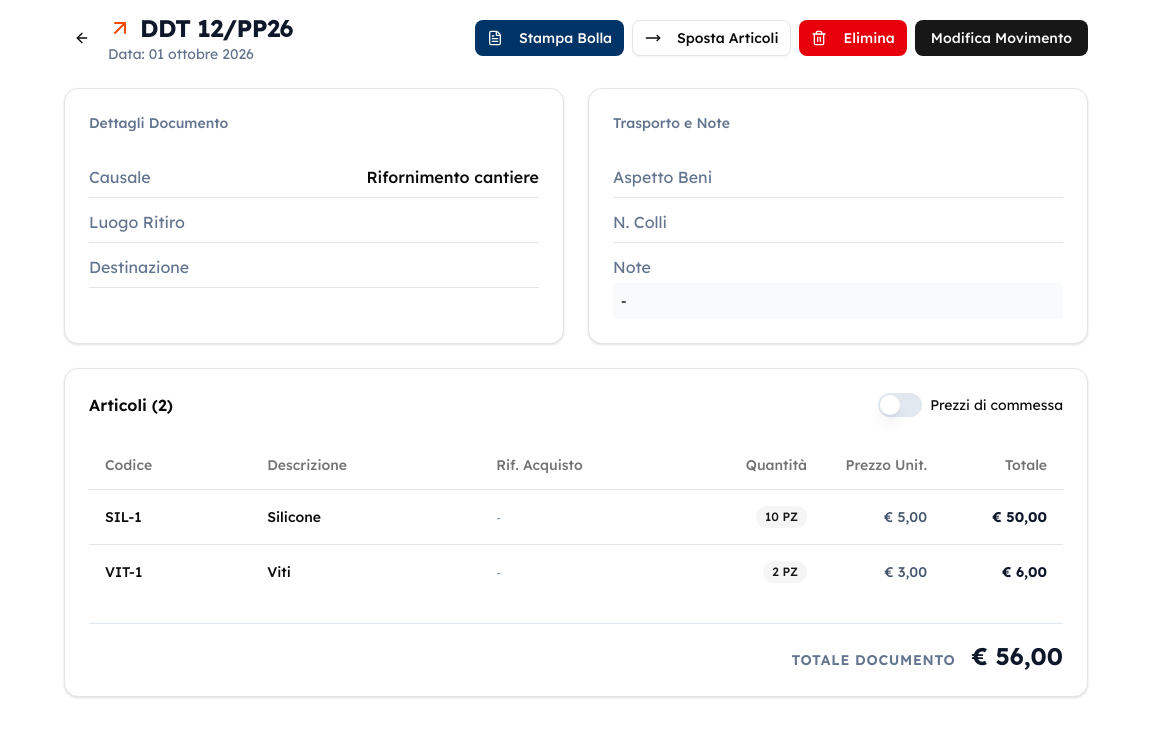
Test: MovementDetailContent: prezzi di acquisto / di commessa › di default mostra i prezzi di acquisto e permette di passare ai prezzi di commessa
Expected: the text "€ 56,00" is shown, [972,640,1063,670]
Click the switch.
click(900, 405)  # box [878,393,922,417]
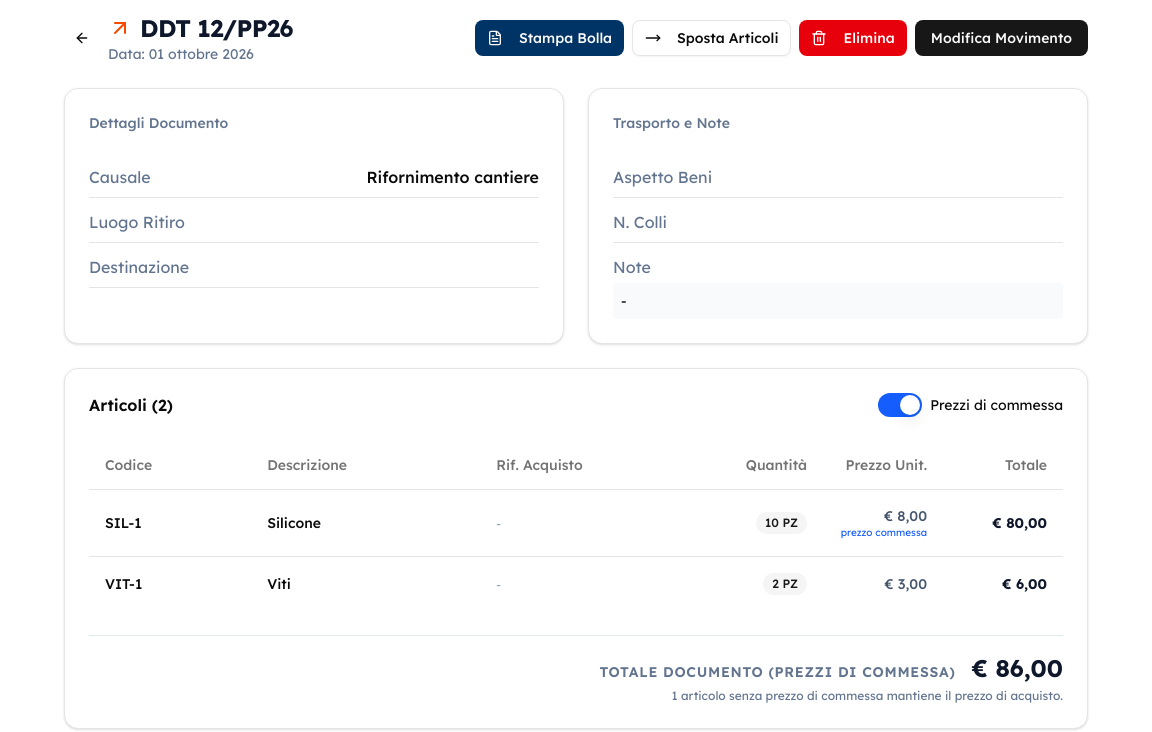
Expected: the text "€ 86,00" is shown, [972,653,1063,683]
Expected: the text "prezzo commessa" is shown, [839,526,927,540]
Expected: the text "1 articolo senza prezzo di commessa mantiene il prezzo di acquisto" is shown, [672,688,1063,703]
Click the switch.
click(900, 405)  # box [878,393,922,417]
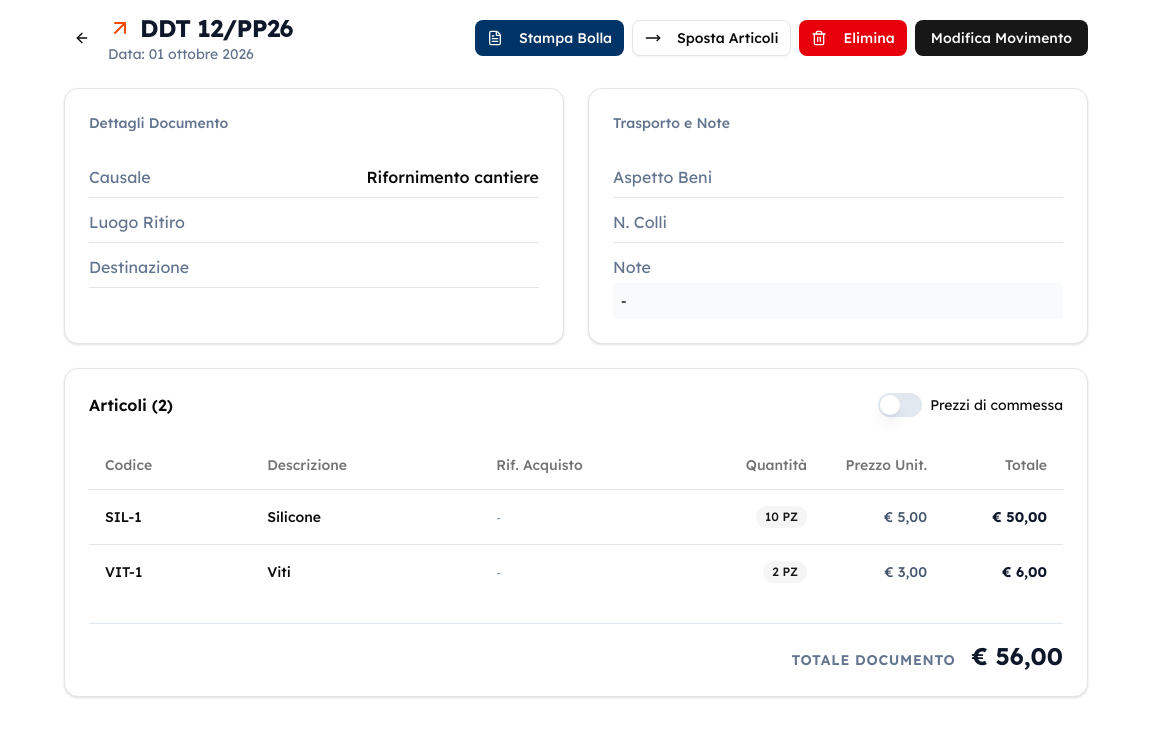
Expected: the text "€ 56,00" is shown, [972,640,1063,670]
Expected: the text "prezzo commessa" is gone
